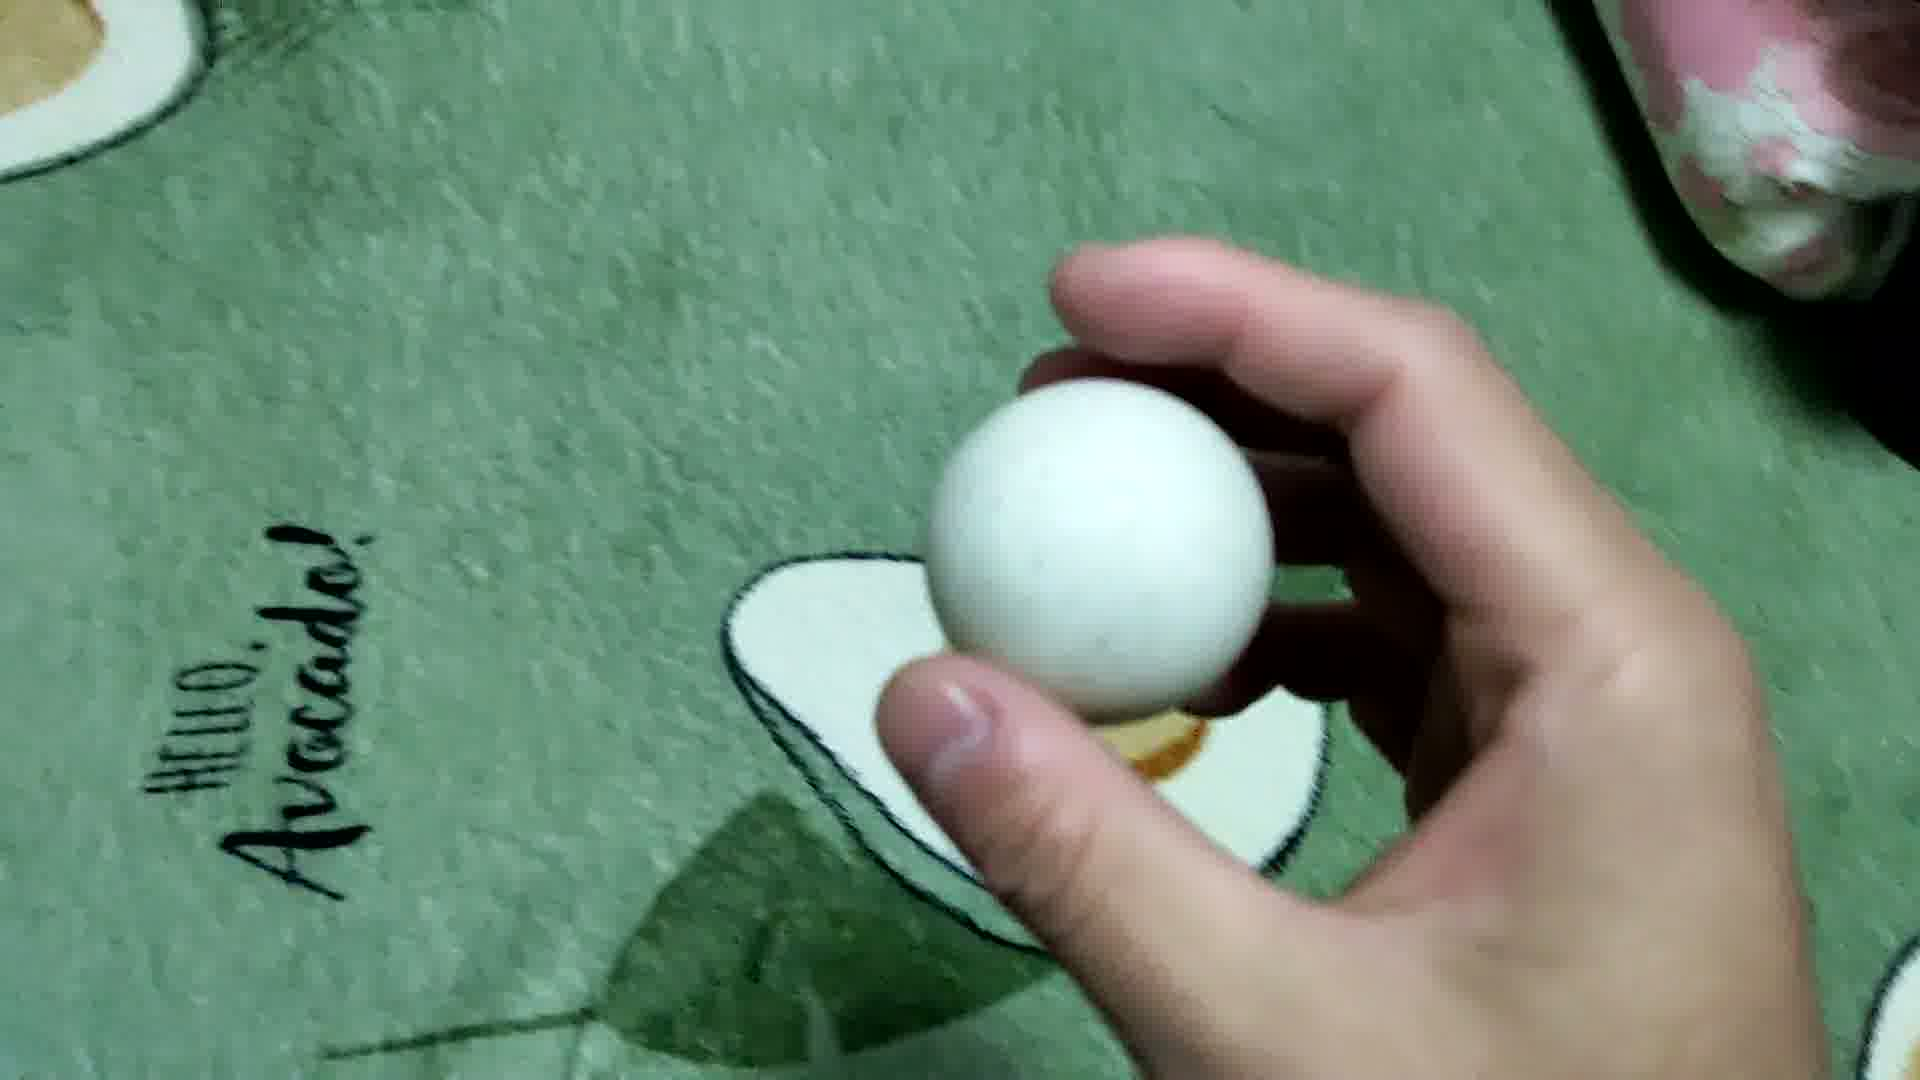Ball: (922, 375, 1276, 708)
